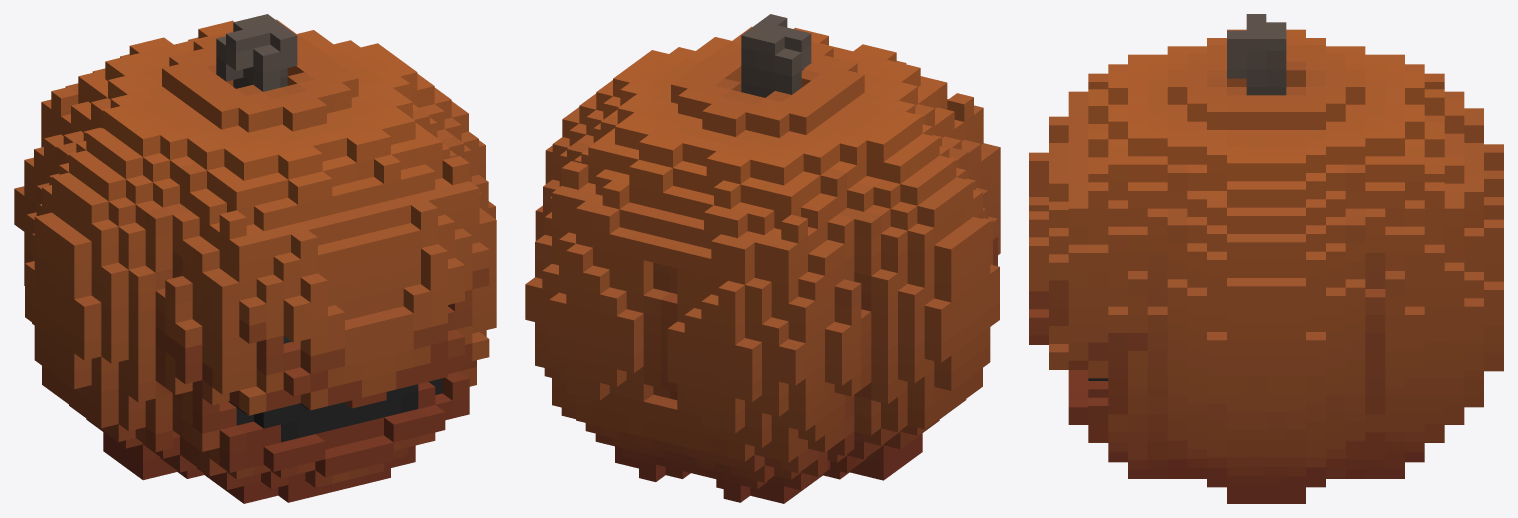
The model's file is kaykit_jackolantern.glb.
3 views of the same model, side by side, from view 1: azimuth 30°, elevation 25°; view 2: azimuth 150°, elevation 25°; view 3: azimuth 270°, elevation 25° (orthographic).
Parts seen in each view (by area): view 1: _MeshInstance3D_5; view 2: _MeshInstance3D_5; view 3: _MeshInstance3D_5.
Boxes of the visible parts, <box> form: _MeshInstance3D_5: <box>14,14,496,503</box>; _MeshInstance3D_5: <box>525,14,1000,503</box>; _MeshInstance3D_5: <box>1029,14,1503,503</box>.
Bounding box in the file's own units: 0.9 × 0.85 × 0.9.
